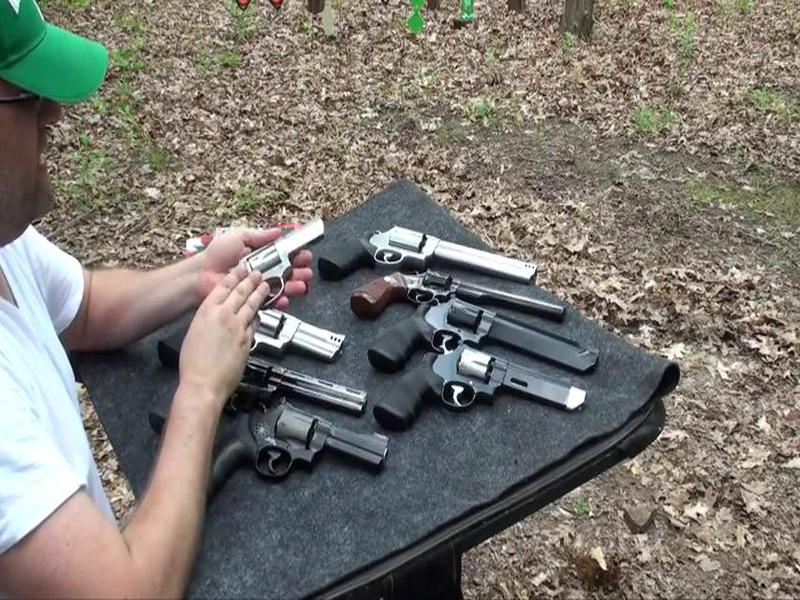Revolver: (350, 334, 585, 452)
